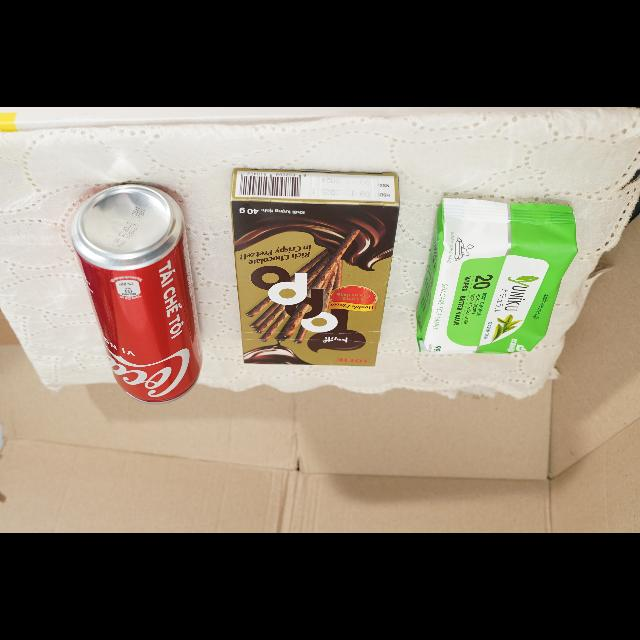banh_toppo_socola: (231, 168, 400, 366)
coca_cola: (71, 184, 201, 403)
khan_giay: (417, 198, 577, 353)
